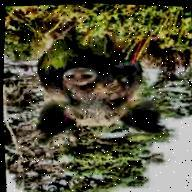boar: (31, 12, 161, 153)
